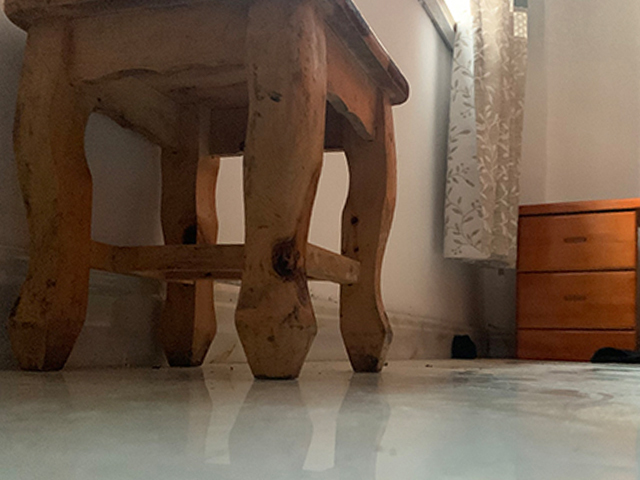cabinet: (515, 197, 640, 362)
curtain: (441, 1, 530, 271)
stool: (1, 1, 411, 381)
